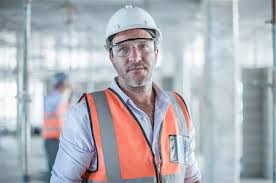Person_wearing_helmet: (103, 3, 164, 56)
